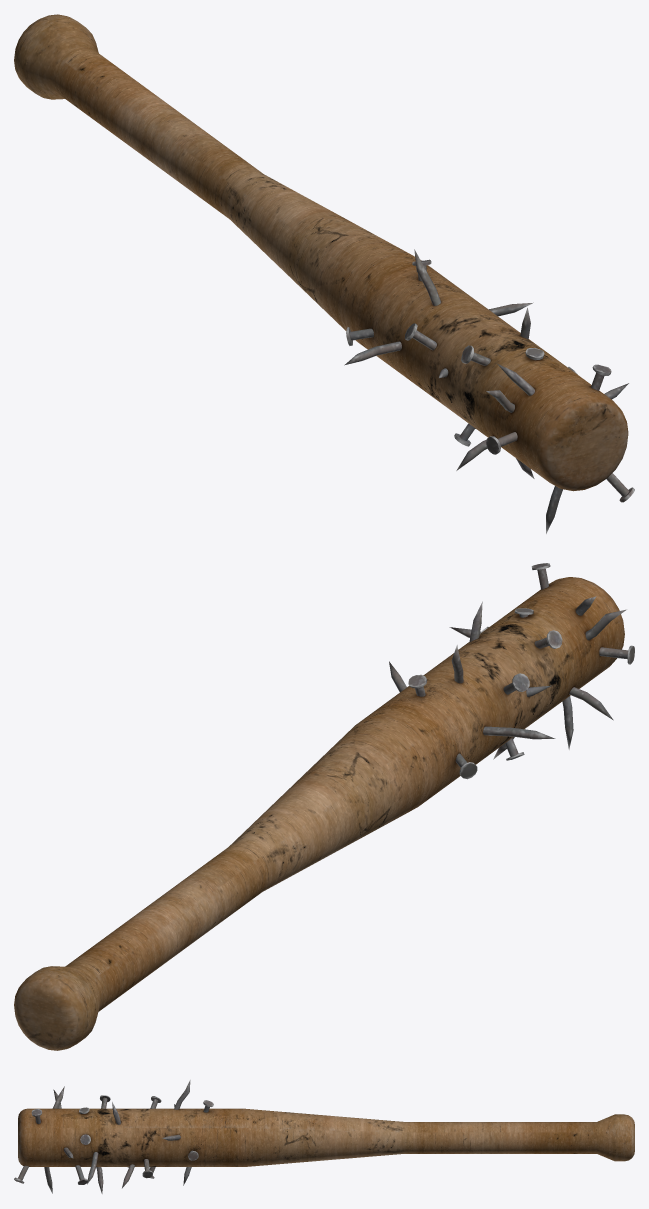
File: bat.glb
3 views of the same model, one above another, from view 1: azimuth 30°, elevation 25°; view 2: azimuth 150°, elevation 25°; view 3: azimuth 270°, elevation 25° (orthographic). The views are drawn at different scales.
Parts seen in each view (by area): view 1: NailBat; view 2: NailBat; view 3: NailBat.
Boxes of the visible parts, bbox=[...] form: NailBat: bbox=[14, 14, 634, 533]; NailBat: bbox=[14, 563, 634, 1050]; NailBat: bbox=[14, 1080, 634, 1193].
Bounding box in the file's own units: 0.1197 × 0.1115 × 0.5599.
1 material, 1 textured.
